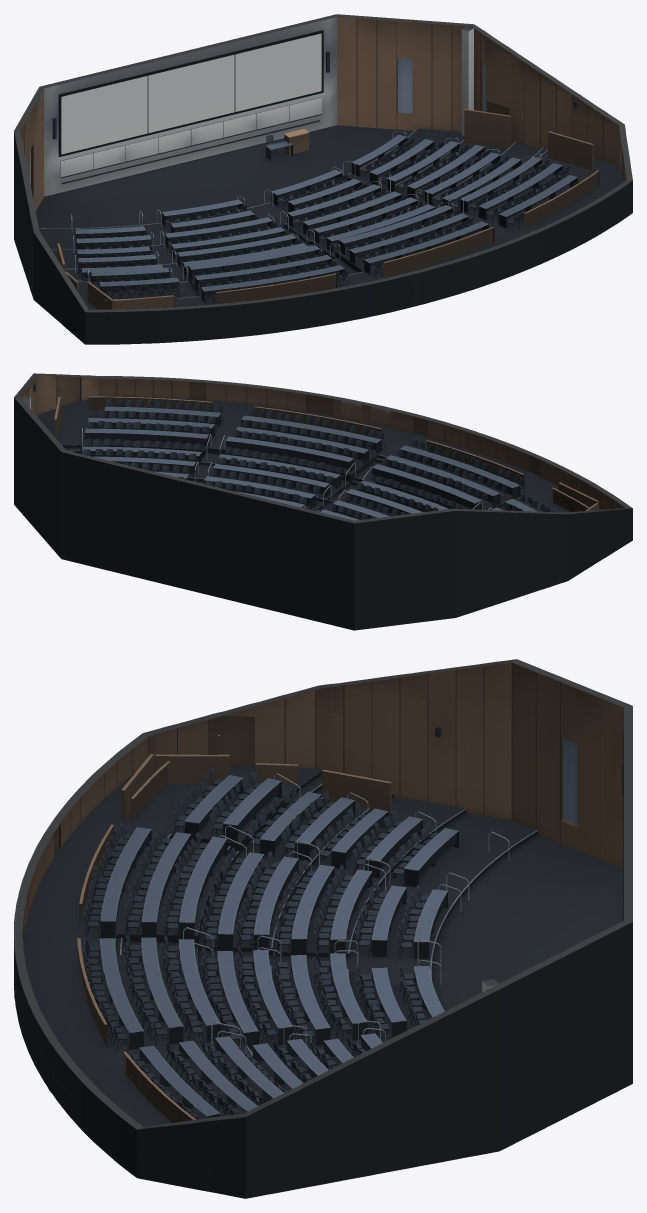
Rendered from hall-hi.glb.
3 views of the same model, one above another, from view 1: azimuth 30°, elevation 25°; view 2: azimuth 150°, elevation 25°; view 3: azimuth 270°, elevation 25° (orthographic). The views are drawn at different scales.
Parts seen in each view (by area): view 1: hall; view 2: hall; view 3: hall.
Boxes of the visible parts, x1,y1,x2,y2 form: hall: (14, 14, 632, 344); hall: (14, 373, 632, 630); hall: (14, 659, 632, 1198).
Bounding box in the file's own units: 38.69 × 7 × 24.25.
